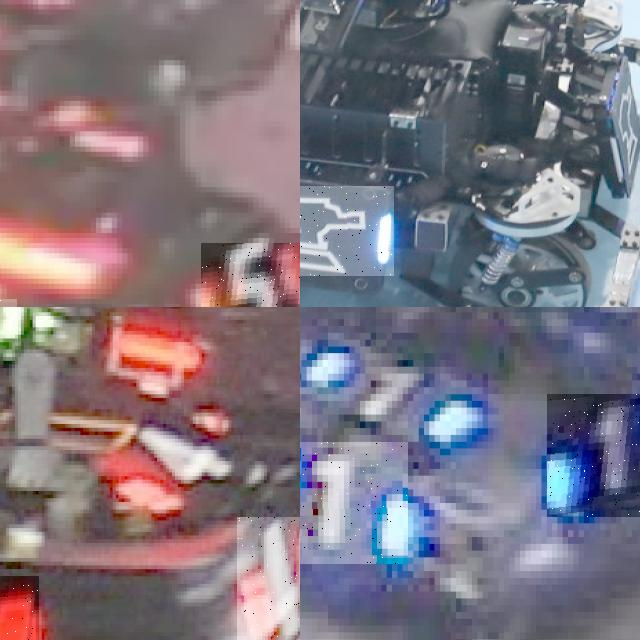B1: (301, 339, 467, 448), (300, 441, 408, 564), (546, 394, 640, 516)
Bs: (300, 185, 394, 276)
R4: (237, 517, 300, 640)
R5: (201, 243, 300, 307)
